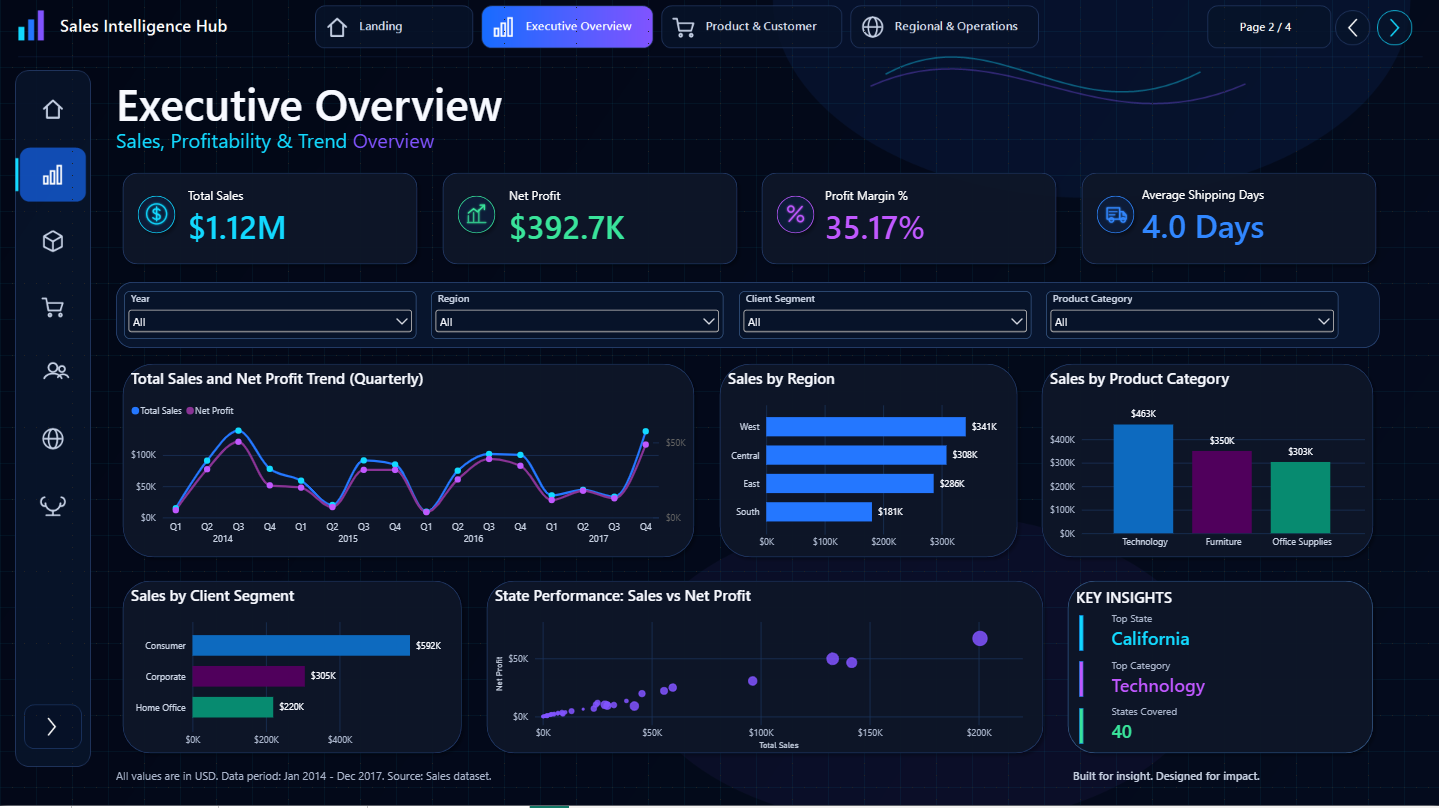

This screenshot's page, from the dashboard's own definition file:
{"tool":"powerbi","page":{"name":"Executive Overview","canvas":[1920,1080],"ordinal":1},"visuals":[{"type":"shape","box":[155,382,1685,88],"z":0},{"type":"shape","box":[155,228,410.7,140],"z":1000},{"type":"shape","box":[882,14,240,56],"z":2000},{"type":"shape","box":[642,14,228,56],"z":3000},{"type":"shape","box":[420,14,210,56],"z":4000},{"type":"shape","box":[1134,14,250,56],"z":5000},{"type":"shape","box":[20,115,100,72],"z":6000},{"type":"shape","box":[20,203,100,72],"z":7000},{"type":"shape","box":[20,291,100,72],"z":8000},{"type":"shape","box":[20,379,100,72],"z":9000},{"type":"shape","box":[20,467,100,72],"z":10000},{"type":"shape","box":[20,555,100,72],"z":11000},{"type":"shape","box":[20,643,100,72],"z":12000},{"type":"shape","box":[1780,20,46,46],"z":13000},{"type":"shape","box":[1836,20,46,46],"z":14000},{"type":"textbox","box":[154.7,105.3,532,88],"z":15000},{"type":"textbox","box":[155,174,520,38],"z":16000},{"type":"shape","box":[581,228,410.7,140],"z":17000},{"type":"shape","box":[1433,228,410.7,140],"z":18000},{"type":"shape","box":[1007,228,410.7,140],"z":19000},{"type":"cardVisual","fields":{"Data":["_Measures.Total Sales"]},"box":[235,244,315,105],"z":20000},{"type":"cardVisual","fields":{"Data":["_Measures.Net Profit"]},"box":[662.4,244.1,315,105],"z":21000},{"type":"cardVisual","fields":{"Data":["_Measures.Profit Margin %"]},"box":[1083.4,244.1,315,105],"z":22000},{"type":"cardVisual","fields":{"Data":["_Measures.Average Shipping Days"]},"box":[1507.2,242.7,315,105],"z":23000},{"type":"shape","box":[175,258,68,68],"z":24000},{"type":"shape","box":[601,258,68,68],"z":25000},{"type":"shape","box":[1027,258,68,68],"z":26000},{"type":"shape","box":[1453,258,68,68],"z":27000},{"type":"image","box":[185.3,273.3,46.7,37.3],"z":28000},{"type":"image","box":[612,273.3,46.7,37.3],"z":29000},{"type":"image","box":[1037.3,273.3,46.7,37.3],"z":30000},{"type":"image","box":[1465.3,273.3,46.7,37.3],"z":31000},{"type":"slicer","fields":{"Values":["Sales_Data.Product Category"]},"box":[1395,394,390,64],"z":32000},{"type":"slicer","fields":{"Values":["Sales_Data.Client Segment"]},"box":[985,394,390,64],"z":33000},{"type":"slicer","fields":{"Values":["Sales_Data.Region"]},"box":[575,394,390,64],"z":34000},{"type":"slicer","fields":{"Values":["Date.Year"]},"box":[165,394,390,64],"z":35000},{"type":"shape","box":[640,772,760,248],"z":36000},{"type":"shape","box":[155,482,780,276],"z":37000},{"type":"shape","box":[1415,772,425,248],"z":38000},{"type":"shape","box":[155,772,470,248],"z":39000},{"type":"shape","box":[1380,482,460,276],"z":40000},{"type":"shape","box":[950,482,415,276],"z":41000},{"type":"lineChart","title":"Total Sales and Net Profit Trend (Quarterly)","fields":{"Category":["Date.Year","Date.Quarter"],"Y":["_Measures.Total Sales"],"Y2":["_Measures.Net Profit"]},"box":[167,490,756,258],"z":42000},{"type":"clusteredBarChart","title":"Sales by Region","fields":{"Category":["Sales_Data.Region"],"Y":["_Measures.Total Sales"]},"box":[962,490,391,258],"z":43000},{"type":"clusteredColumnChart","title":"Sales by Product Category","fields":{"Category":["Sales_Data.Product Category"],"Y":["_Measures.Total Sales"]},"box":[1392,490,436,258],"z":44000},{"type":"clusteredBarChart","title":"Sales by Client Segment","fields":{"Category":["Sales_Data.Client Segment"],"Y":["_Measures.Total Sales"]},"box":[167,780,446,232],"z":45000},{"type":"scatterChart","title":"State Performance: Sales vs Net Profit","fields":{"Category":["Sales_Data.State"],"Size":["_Measures.Total Orders"],"X":["_Measures.Total Sales"],"Y":["_Measures.Net Profit"]},"box":[652,780,736,232],"z":46000},{"type":"textbox","box":[1435,788,360,34],"z":47000},{"type":"shape","box":[1438,888,6,48],"z":48000},{"type":"shape","box":[1438,826,6,48],"z":49000},{"type":"shape","box":[1438,950,6,48],"z":50000},{"type":"cardVisual","fields":{"Data":["_Measures.States Covered"]},"box":[1460,944,350,56],"z":51000},{"type":"cardVisual","fields":{"Data":["_Measures.Top State"]},"box":[1460,820,350,56],"z":52000},{"type":"cardVisual","fields":{"Data":["_Measures.Top Category"]},"box":[1460,882,350,56],"z":53000},{"type":"textbox","box":[155,1030,1180,30],"z":54000},{"type":"textbox","box":[1430,1030,410,30],"z":55000}]}

Visuals, with their boxes on the page's 1920x1080 design canvas (x1, y1, x2, y2). These are canvas units, not pixel positions in the 1439x808 screenshot, which may show the page scaled, cropped or inside an application window:
shape: left=155, top=382, right=1840, bottom=470
shape: left=155, top=228, right=566, bottom=368
shape: left=882, top=14, right=1122, bottom=70
shape: left=642, top=14, right=870, bottom=70
shape: left=420, top=14, right=630, bottom=70
shape: left=1134, top=14, right=1384, bottom=70
shape: left=20, top=115, right=120, bottom=187
shape: left=20, top=203, right=120, bottom=275
shape: left=20, top=291, right=120, bottom=363
shape: left=20, top=379, right=120, bottom=451
shape: left=20, top=467, right=120, bottom=539
shape: left=20, top=555, right=120, bottom=627
shape: left=20, top=643, right=120, bottom=715
shape: left=1780, top=20, right=1826, bottom=66
shape: left=1836, top=20, right=1882, bottom=66
textbox: left=155, top=105, right=687, bottom=193
textbox: left=155, top=174, right=675, bottom=212
shape: left=581, top=228, right=992, bottom=368
shape: left=1433, top=228, right=1844, bottom=368
shape: left=1007, top=228, right=1418, bottom=368
cardVisual - _Measures.Total Sales: left=235, top=244, right=550, bottom=349
cardVisual - _Measures.Net Profit: left=662, top=244, right=977, bottom=349
cardVisual - _Measures.Profit Margin %: left=1083, top=244, right=1398, bottom=349
cardVisual - _Measures.Average Shipping Days: left=1507, top=243, right=1822, bottom=348
shape: left=175, top=258, right=243, bottom=326
shape: left=601, top=258, right=669, bottom=326
shape: left=1027, top=258, right=1095, bottom=326
shape: left=1453, top=258, right=1521, bottom=326
image: left=185, top=273, right=232, bottom=311
image: left=612, top=273, right=659, bottom=311
image: left=1037, top=273, right=1084, bottom=311
image: left=1465, top=273, right=1512, bottom=311
slicer - Sales_Data.Product Category: left=1395, top=394, right=1785, bottom=458
slicer - Sales_Data.Client Segment: left=985, top=394, right=1375, bottom=458
slicer - Sales_Data.Region: left=575, top=394, right=965, bottom=458
slicer - Date.Year: left=165, top=394, right=555, bottom=458
shape: left=640, top=772, right=1400, bottom=1020
shape: left=155, top=482, right=935, bottom=758
shape: left=1415, top=772, right=1840, bottom=1020
shape: left=155, top=772, right=625, bottom=1020
shape: left=1380, top=482, right=1840, bottom=758
shape: left=950, top=482, right=1365, bottom=758
"Total Sales and Net Profit Trend (Quarterly)" lineChart: left=167, top=490, right=923, bottom=748
"Sales by Region" clusteredBarChart: left=962, top=490, right=1353, bottom=748
"Sales by Product Category" clusteredColumnChart: left=1392, top=490, right=1828, bottom=748
"Sales by Client Segment" clusteredBarChart: left=167, top=780, right=613, bottom=1012
"State Performance: Sales vs Net Profit" scatterChart: left=652, top=780, right=1388, bottom=1012
textbox: left=1435, top=788, right=1795, bottom=822
shape: left=1438, top=888, right=1444, bottom=936
shape: left=1438, top=826, right=1444, bottom=874
shape: left=1438, top=950, right=1444, bottom=998
cardVisual - _Measures.States Covered: left=1460, top=944, right=1810, bottom=1000
cardVisual - _Measures.Top State: left=1460, top=820, right=1810, bottom=876
cardVisual - _Measures.Top Category: left=1460, top=882, right=1810, bottom=938
textbox: left=155, top=1030, right=1335, bottom=1060
textbox: left=1430, top=1030, right=1840, bottom=1060
